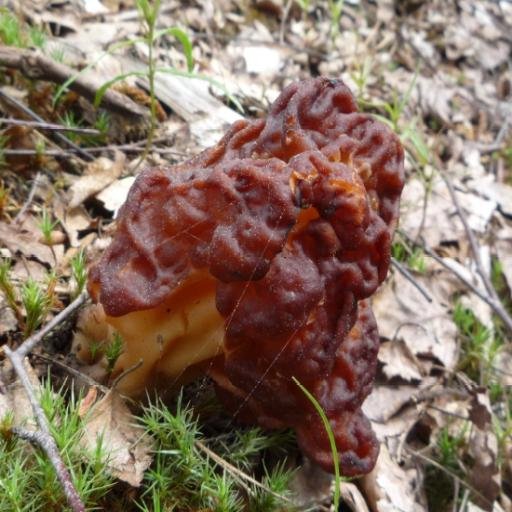False Morel: (84, 67, 413, 468)
